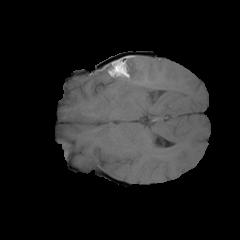glioma: (90, 55, 157, 99)
